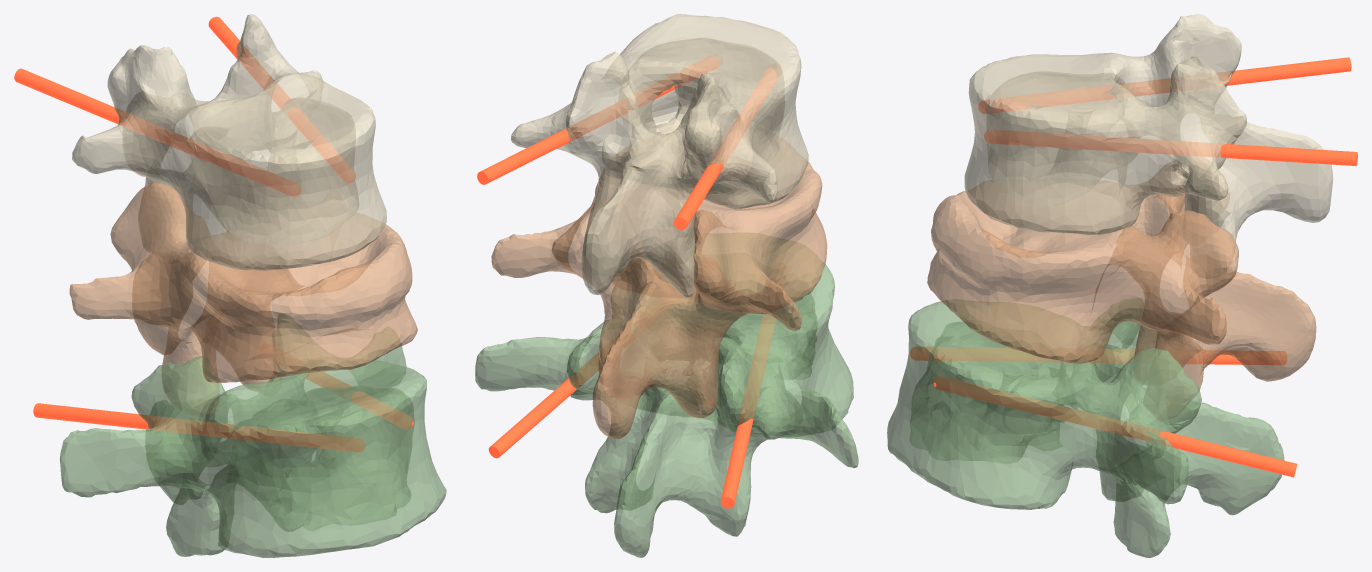
The picture shows the model from 3 angles, left to right: view 1: azimuth 30°, elevation 25°; view 2: azimuth 150°, elevation 25°; view 3: azimuth 270°, elevation 25°; orthographic projection. The views are drawn at different scales.
Visible parts, largest first — view 1: L3, L1, L2, Trajectoires; view 2: L3, L1, L2, Trajectoires; view 3: L3, L2, L1, Trajectoires.
Boxes of the visible parts, x1,y1,x2,y2 form: L3: [59, 314, 446, 557]; L1: [72, 14, 386, 270]; L2: [69, 182, 417, 416]; Trajectoires: [14, 16, 413, 452]; L3: [475, 233, 858, 557]; L1: [511, 14, 808, 297]; L2: [491, 137, 827, 438]; Trajectoires: [477, 58, 777, 508]; L3: [887, 298, 1284, 557]; L2: [927, 156, 1316, 421]; L1: [964, 14, 1333, 278]; Trajectoires: [910, 57, 1357, 477].
Bounding box in the file's own units: 0.0936 × 0.1196 × 0.106.
